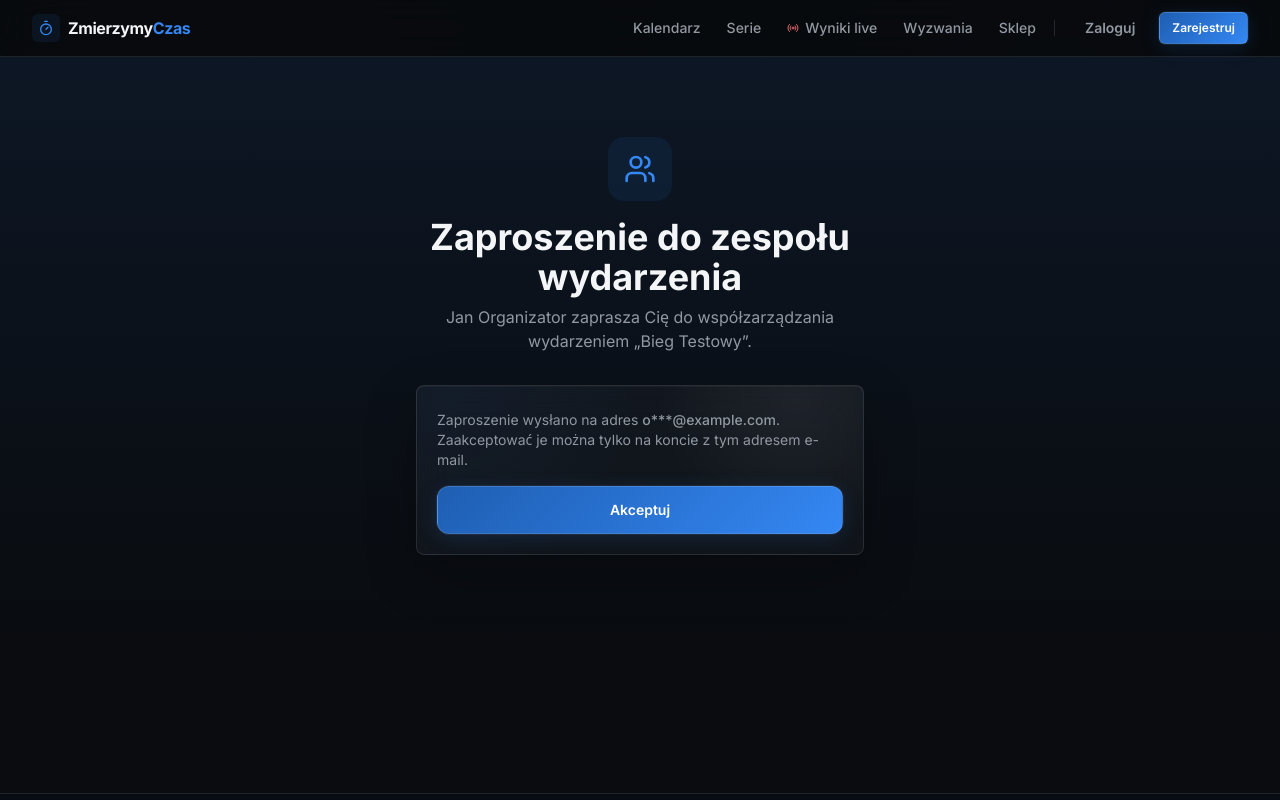
TeamInvitationPage › shows the preview and accepts for a signed-in Account
The image size is (1280, 800).
expect the text "Jan Organizator zaprasza" is shown: met, box [446,307,834,351]
expect the text "o***@example.com" is shown: met, box [642,411,776,428]
Click the button "Akceptuj" at (640, 510), box [437,486,843,534]
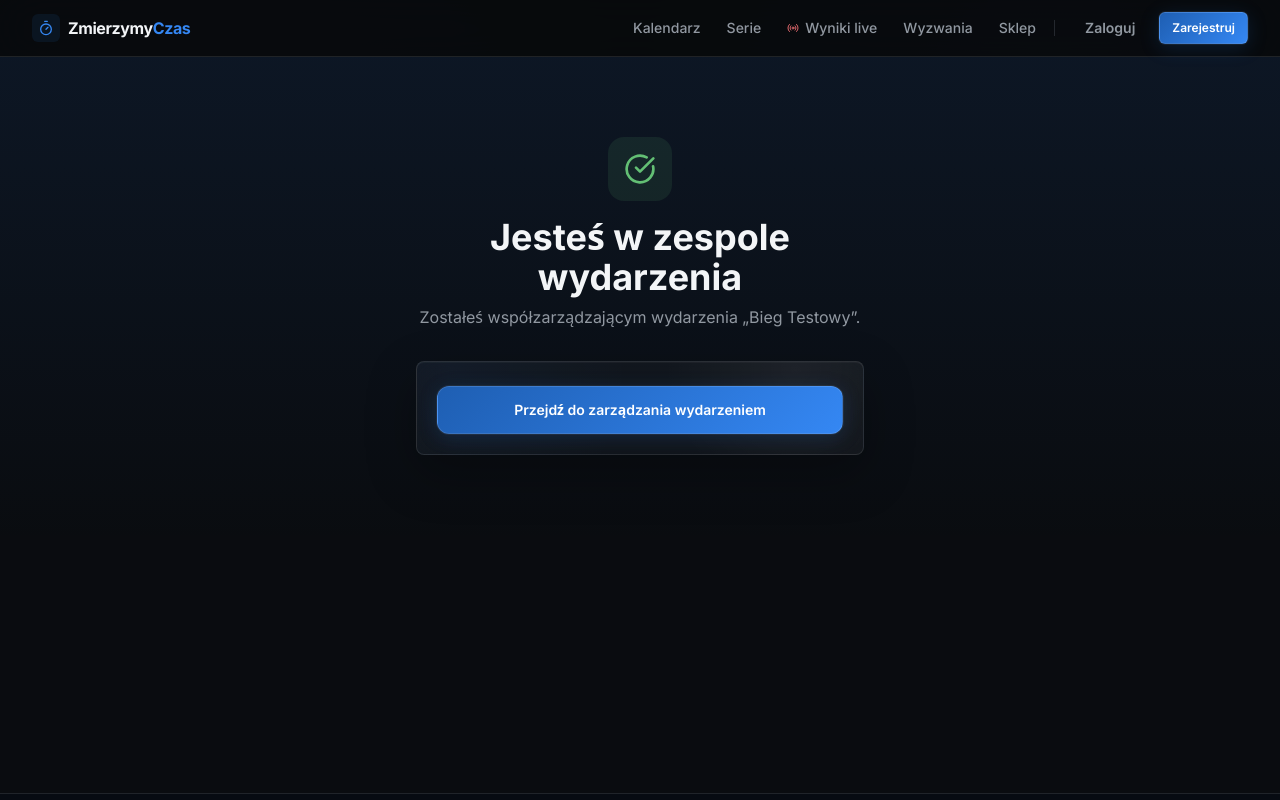
expect the heading "Jesteś w zespole wydarzenia" is shown: met, box [490,215,790,299]
